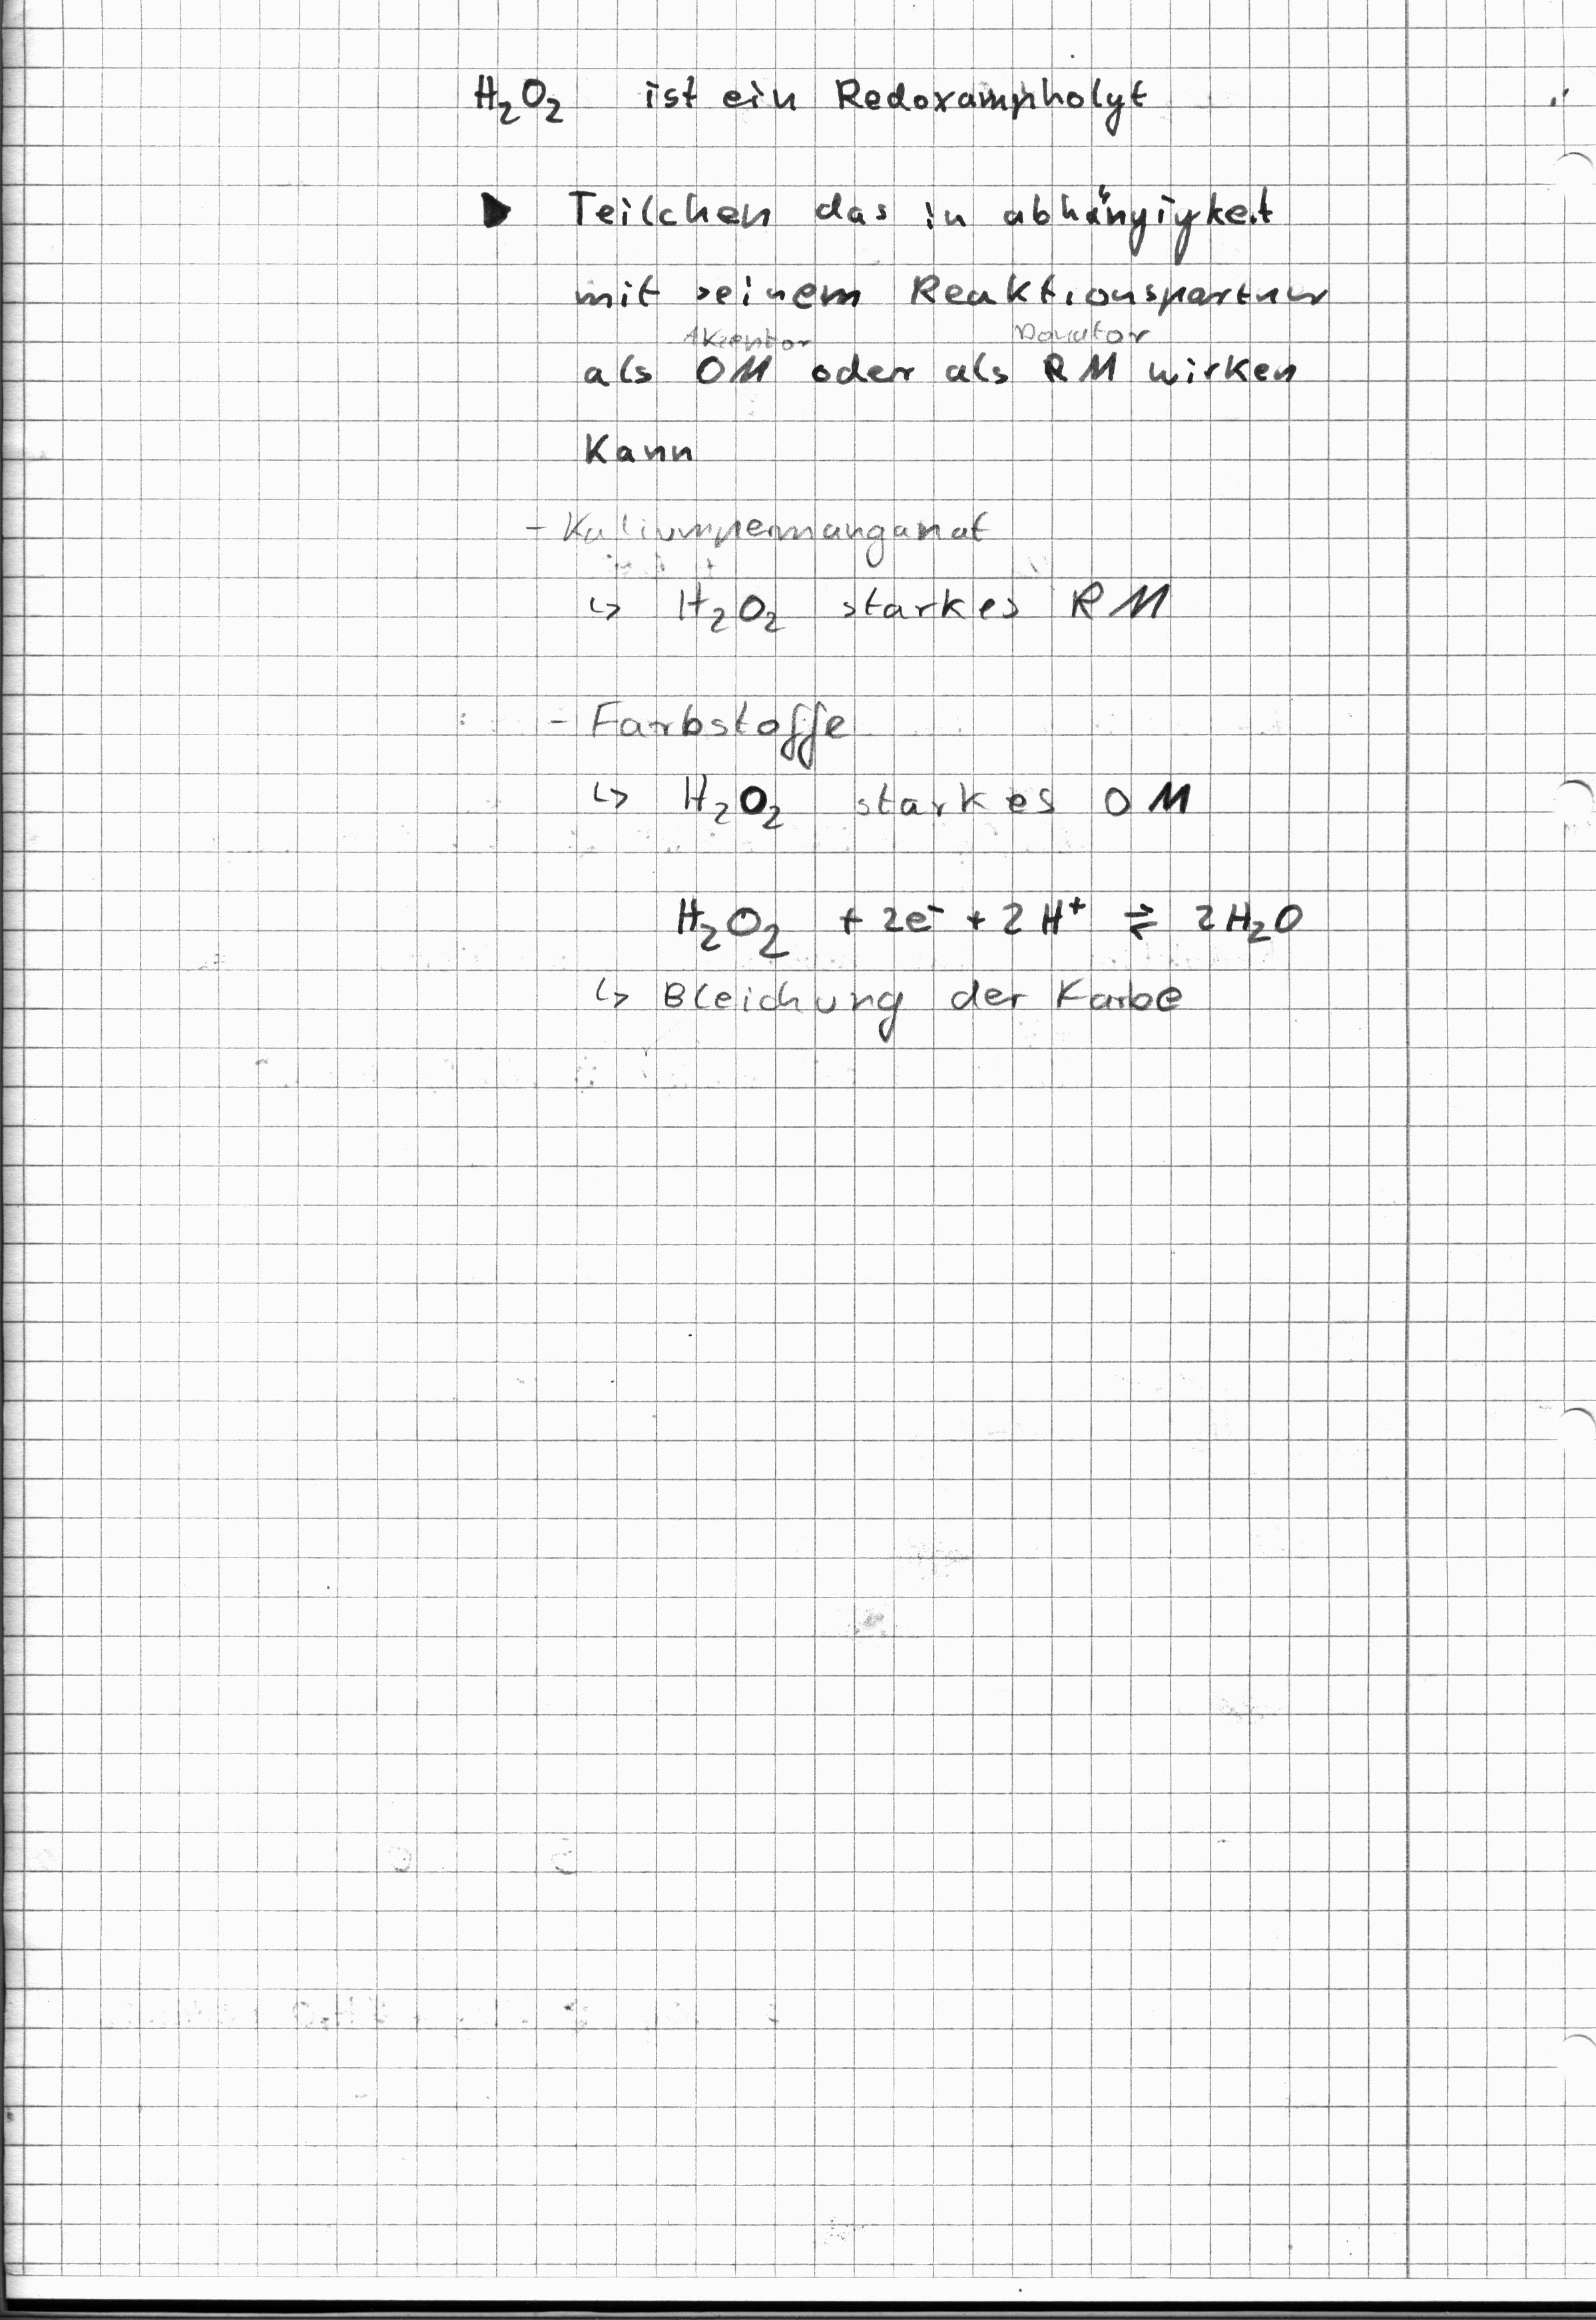word: (557, 166, 1344, 480), (453, 37, 1165, 150), (654, 862, 1308, 967)
